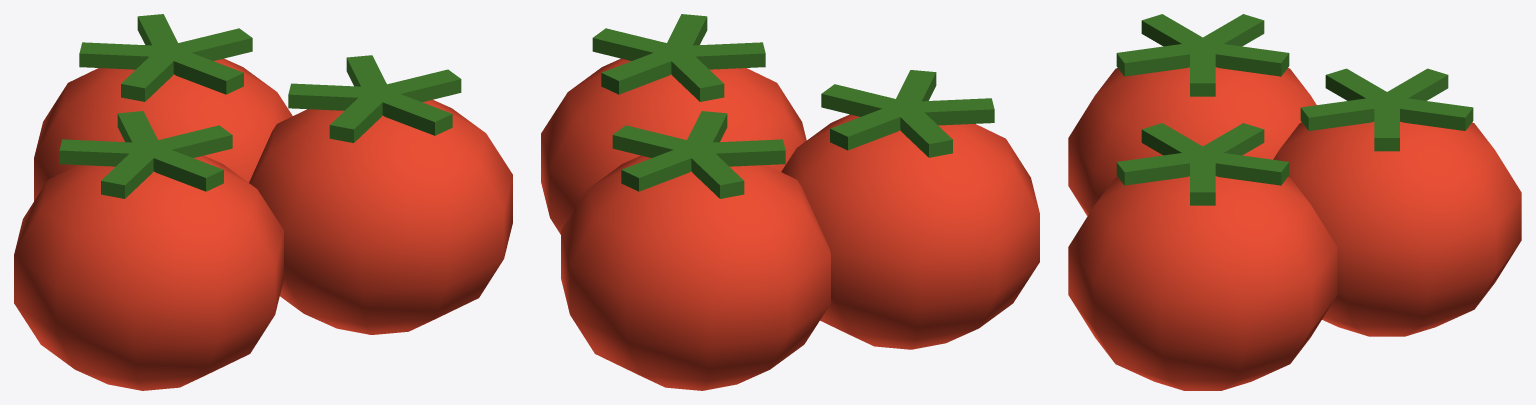
The model's file is tomato.glb.
The picture shows the model from 3 angles, left to right: view 1: azimuth 30°, elevation 25°; view 2: azimuth 150°, elevation 25°; view 3: azimuth 270°, elevation 25°; orthographic projection. The views are drawn at different scales.
Parts seen in each view (by area): view 1: tomato; view 2: tomato; view 3: tomato.
Part boxes in pixels (left/top/right/bottom): tomato: left=14, top=14, right=512, bottom=390; tomato: left=541, top=14, right=1039, bottom=390; tomato: left=1068, top=14, right=1521, bottom=390.
Bounding box in the file's own units: 0.2791 × 0.1328 × 0.2462.
